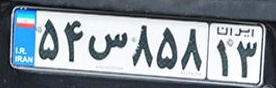character: (86, 28, 131, 63), (153, 24, 180, 72), (61, 16, 87, 65), (129, 23, 156, 70), (178, 26, 205, 73), (36, 16, 62, 64), (235, 38, 259, 81), (213, 38, 234, 79)
